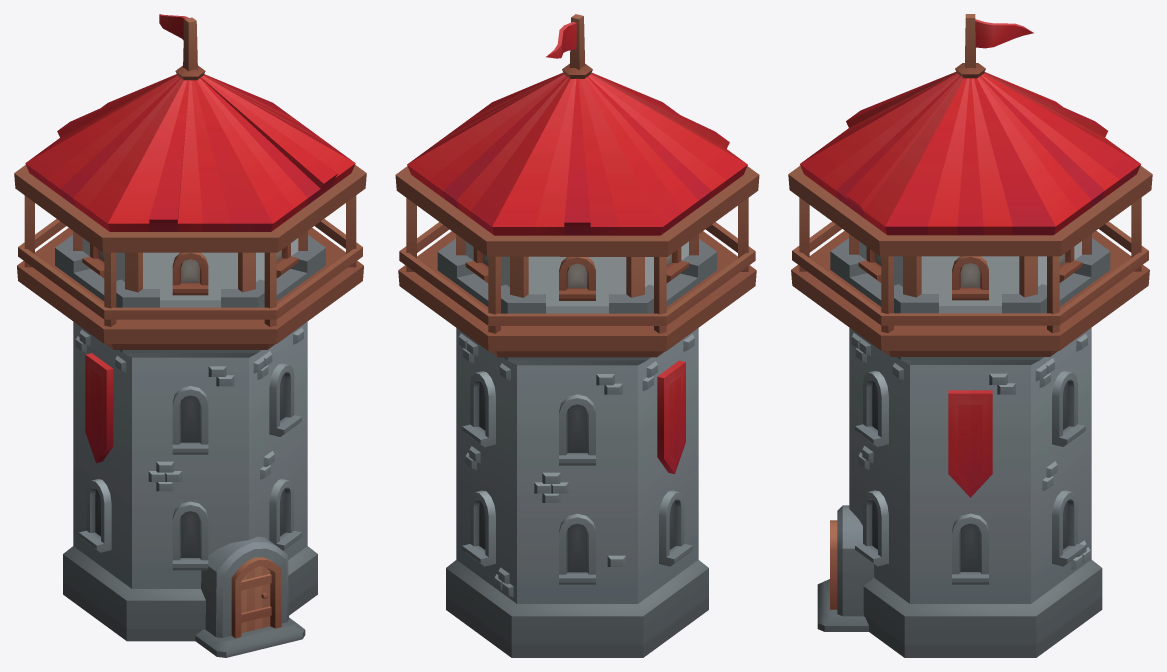
File: k-tower-b-kaykit.glb
3 renders of one model, left to right at view 1: azimuth 30°, elevation 25°; view 2: azimuth 150°, elevation 25°; view 3: azimuth 270°, elevation 25°, orthographic. The views are drawn at different scales.
Visible parts, largest first — view 1: building_tower_B_red, building_tower_B_top_red; view 2: building_tower_B_red, building_tower_B_top_red; view 3: building_tower_B_red, building_tower_B_top_red.
Boxes of the visible parts, bbox=[...] form: building_tower_B_red: bbox=[55, 235, 325, 657]; building_tower_B_top_red: bbox=[14, 14, 366, 349]; building_tower_B_red: bbox=[437, 238, 717, 657]; building_tower_B_top_red: bbox=[395, 14, 759, 357]; building_tower_B_red: bbox=[817, 238, 1110, 657]; building_tower_B_top_red: bbox=[788, 14, 1152, 356].
Size of the model in its own units: 1.2 by 2.49 by 1.38.
Materials: 1 (1 with a texture image).
